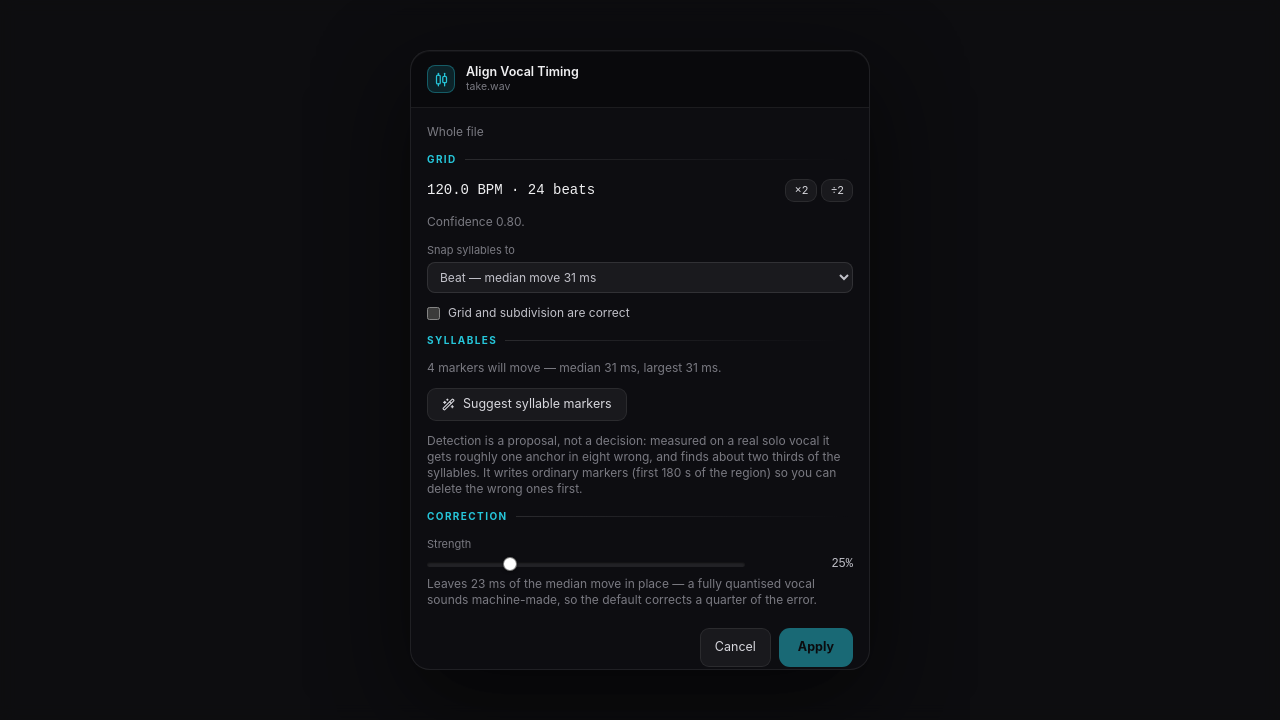
Test: AlignTimingDialog — RULING 1, confirm before warp › keeps Apply disabled until the grid is explicitly confirmed
Expected: the button with test id "align-apply" is disabled, [779,628,853,667]
Click the checkbox with test id "align-grid-confirmed". click: (434, 313)
box: [427,307,440,320]
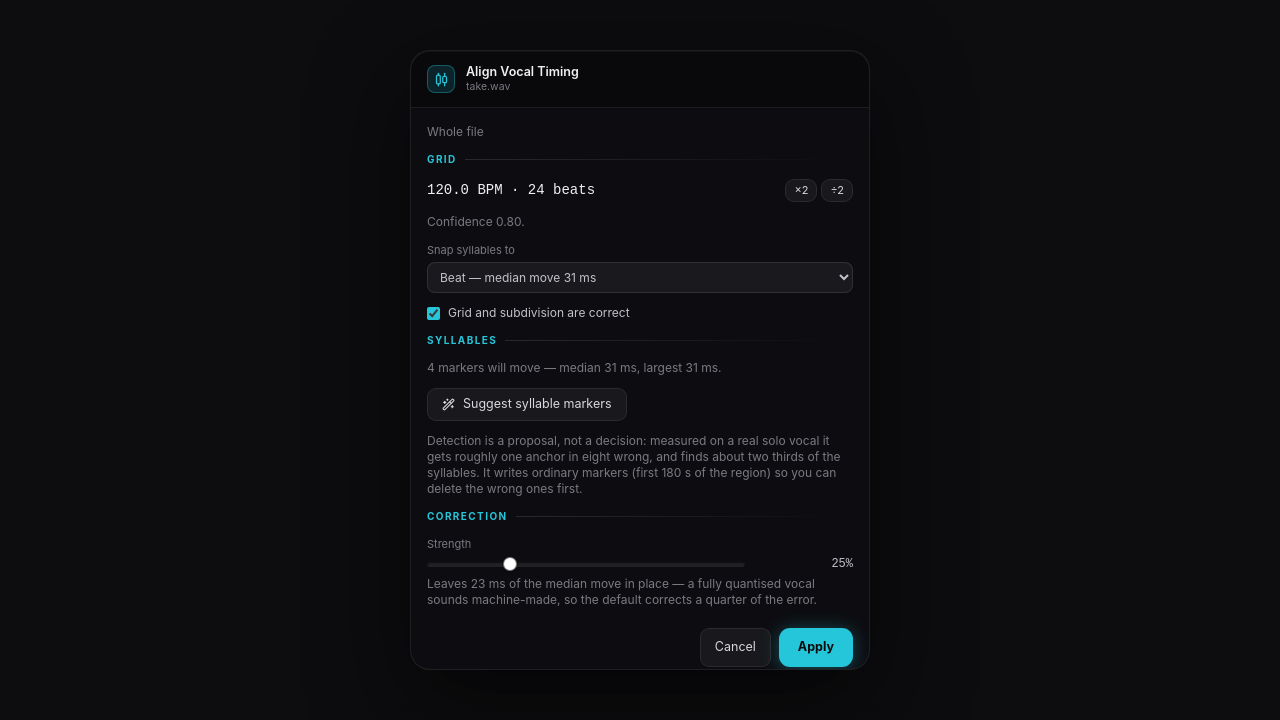
Expected: the button with test id "align-apply" is enabled, [779,628,853,667]
